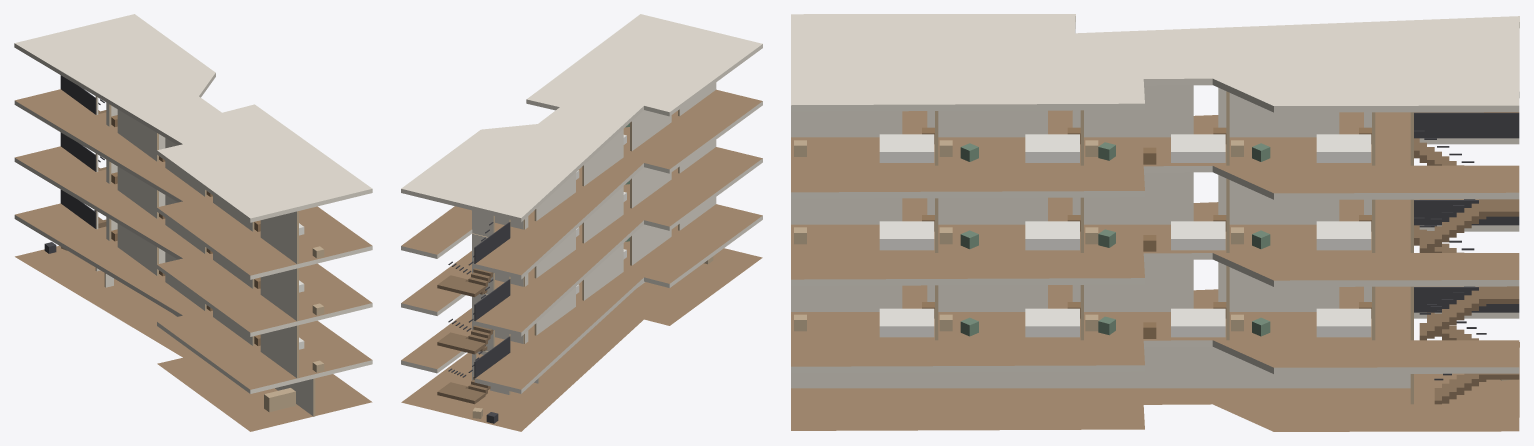
File: interior.glb
3 views of the same model, side by side, from view 1: azimuth 30°, elevation 25°; view 2: azimuth 150°, elevation 25°; view 3: azimuth 270°, elevation 25° (orthographic). The views are drawn at different scales.
Visible parts, largest first — view 1: slabs, partitions, stair, coarse-s0, coarse-s1, coarse-s3, coarse-s2; view 2: slabs, partitions, stair; view 3: slabs, partitions, stair, coarse-s2, coarse-s1, coarse-s3.
Part boxes in pixels (box(x1,y1,x2,y2)): slabs: box(14, 14, 372, 431); partitions: box(95, 96, 315, 416); stair: box(60, 75, 106, 228); coarse-s0: box(44, 242, 295, 412); coarse-s1: box(111, 229, 324, 372); coarse-s3: box(111, 115, 324, 258); coarse-s2: box(111, 172, 324, 315); slabs: box(401, 14, 762, 431); partitions: box(472, 82, 716, 394); stair: box(437, 222, 510, 404); slabs: box(791, 14, 1519, 431); partitions: box(791, 85, 1413, 404); stair: box(1414, 112, 1519, 404); coarse-s2: box(794, 215, 1371, 251); coarse-s1: box(794, 302, 1371, 338); coarse-s3: box(794, 127, 1371, 164).
Bounding box in the file's own units: 7.93 × 13.1 × 26.51.
